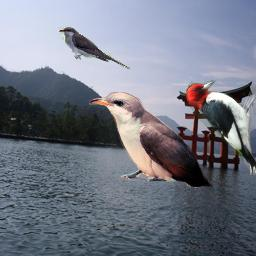Cuckoo: (89, 92, 213, 188), (58, 27, 130, 70)
Woodpecker: (186, 80, 256, 175)
